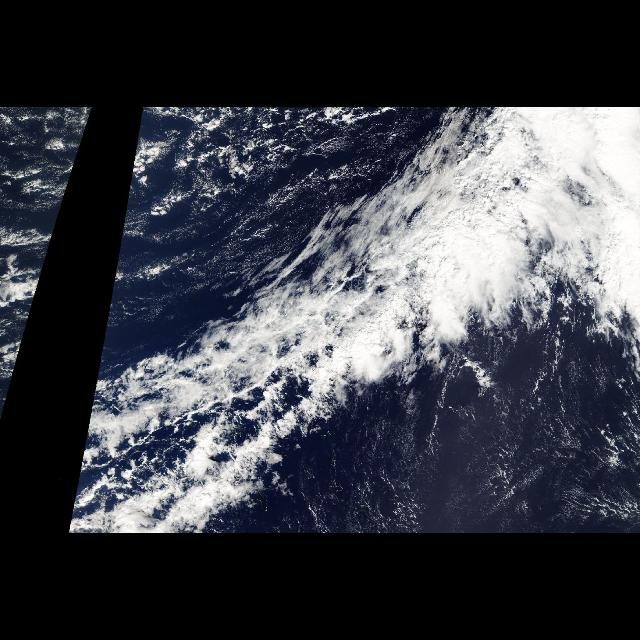Fish: (66, 107, 512, 533), (0, 108, 94, 426)
Gravel: (205, 115, 422, 191)
Sugar: (328, 376, 636, 528), (113, 111, 310, 319)
